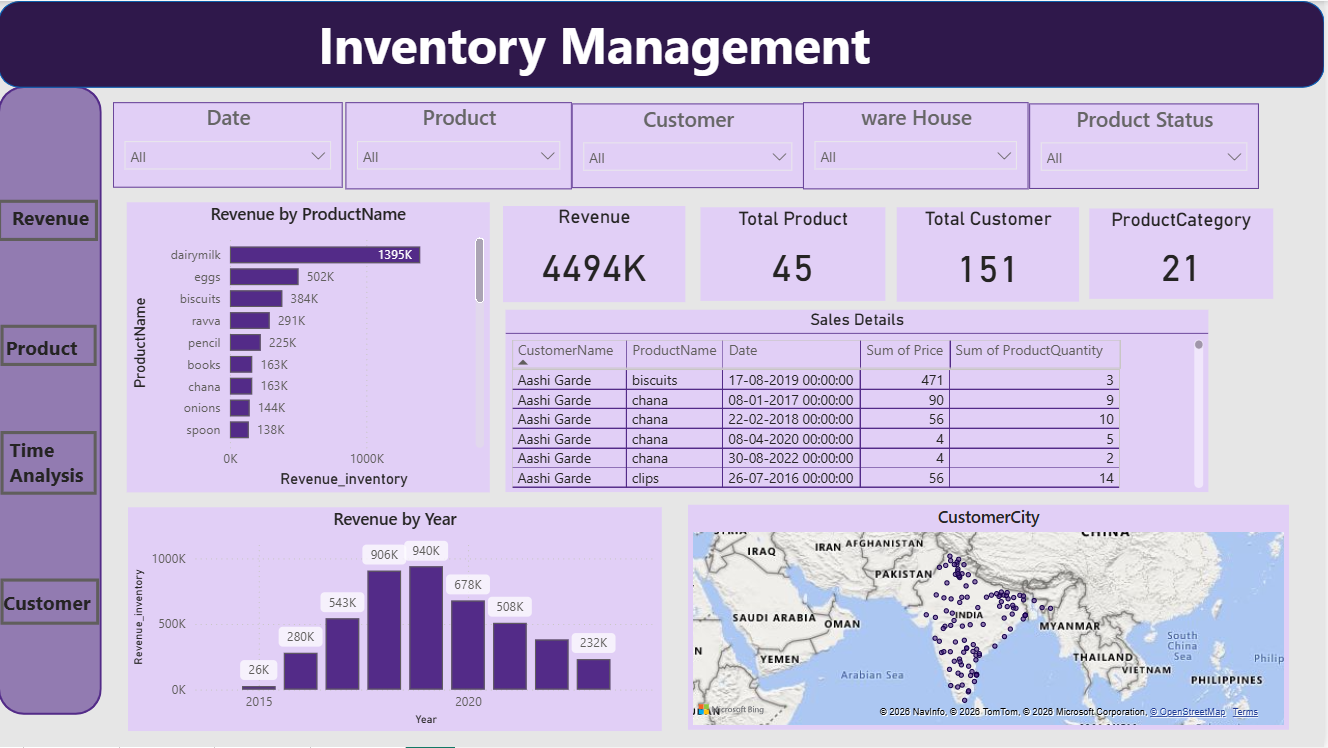

Layout of this report page (visuals, bound fields, positions):
{"tool":"powerbi","page":{"name":"Page 1","canvas":[1280,720],"ordinal":0},"visuals":[{"type":"actionButton","box":[0,191.8,96.5,39.8],"z":0,"group":"g1"},{"type":"lineClusteredColumnComboChart","title":"Revenue by Year","fields":{"Category":["dim_date.Year"],"Y":["factinventoryproduct.Revenue_inventory"]},"box":[125.5,488.6,515.2,216],"z":0},{"type":"textbox","box":[8.4,191.8,88.1,38.6],"z":1000,"group":"g1"},{"type":"barChart","title":"Revenue by ProductName","fields":{"Category":["dim_product.ProductName"],"Y":["factinventoryproduct.Revenue_inventory"]},"box":[123.8,193.8,350,280],"z":1000},{"type":"card","title":"Revenue","fields":{"Values":["factinventoryproduct.Revenue_inventory"]},"box":[487.5,197.5,176.2,92.5],"z":2000},{"type":"card","title":" ProductCategory","fields":{"Values":["Count(dim_product.ProductCategory)"]},"box":[1053.8,200,177.5,87.5],"z":3000},{"type":"card","title":"Total Product","fields":{"Values":["Count(dim_product.ProductName)"]},"box":[677.5,198.8,178.8,90],"z":4000},{"type":"card","title":"Total Customer","fields":{"Values":["Count(dim_customer.CustomerName)"]},"box":[867.5,198.8,176.2,91.2],"z":5000},{"type":"slicer","title":"Date","fields":{"Values":["dim_date.Date"]},"box":[111.2,97.5,221.2,82.5],"z":6000},{"type":"slicer","title":"Product","fields":{"Values":["dim_product.ProductName"]},"box":[335.4,97.7,218.4,83.7],"z":7000},{"type":"slicer","title":"Customer","fields":{"Values":["dim_customer.CustomerName"]},"box":[553.8,98.9,223.8,81.2],"z":8000},{"type":"slicer","title":"ware House","fields":{"Values":["dim_warehouse.warehousename"]},"box":[777.5,97.5,217.5,83.8],"z":9000},{"type":"slicer","title":"Product Status","fields":{"Values":["dim_productstatus.productstatus"]},"box":[995,98.8,221.2,82.5],"z":10000},{"type":"tableEx","title":"Sales Details","fields":{"Values":["dim_customer.CustomerName","dim_product.ProductName","dim_date.Date","Sum(factinventoryproduct.Price)","Sum(factinventoryproduct.ProductQuantity)"]},"box":[490,297.5,678.8,176.2],"z":11000},{"type":"shape","box":[0,82,100.1,606.8],"z":12000},{"type":"shape","box":[0,0,1280.3,83.7],"z":17000},{"type":"map","fields":{"Category":["dim_customer.CustomerCity"]},"box":[666,486.2,580.3,217.2],"z":19000},{"type":"textbox","box":[303.8,3.8,563.8,73.8],"z":20500},{"type":"textbox","box":[2.7,316.9,88.1,38.6],"z":20505},{"type":"actionButton","box":[2.4,312.5,92.9,39.8],"z":20506},{"type":"actionButton","box":[2.4,415,92.9,61.5],"z":20508},{"type":"actionButton","box":[2.4,557.4,95.3,44.6],"z":20509},{"type":"textbox","box":[6,415,90.5,61.5],"z":20511},{"type":"textbox","box":[0,563.2,103.8,38.6],"z":20512},{"type":"group","id":"g1","title":"Group 1","box":[0,191.8,96.5,39.8],"z":20513}]}

Visuals, with their boxes in screenshot pixels (x1, y1, x2, y2), scaled from the page's 1280x720 canvas onto the 1328x748 screenshot:
actionButton: bbox=(0, 199, 100, 241)
"Revenue by Year" lineClusteredColumnComboChart: bbox=(130, 508, 665, 732)
textbox: bbox=(9, 199, 100, 239)
"Revenue by ProductName" barChart: bbox=(128, 201, 492, 492)
"Revenue" card: bbox=(506, 205, 689, 301)
" ProductCategory" card: bbox=(1093, 208, 1277, 299)
"Total Product" card: bbox=(703, 207, 888, 300)
"Total Customer" card: bbox=(900, 207, 1083, 301)
"Date" slicer: bbox=(115, 101, 345, 187)
"Product" slicer: bbox=(348, 101, 575, 188)
"Customer" slicer: bbox=(575, 103, 807, 187)
"ware House" slicer: bbox=(807, 101, 1032, 188)
"Product Status" slicer: bbox=(1032, 103, 1262, 188)
"Sales Details" tableEx: bbox=(508, 309, 1213, 492)
shape: bbox=(0, 85, 104, 716)
shape: bbox=(0, 0, 1327, 87)
map - dim_customer.CustomerCity: bbox=(691, 505, 1293, 731)
textbox: bbox=(315, 4, 900, 81)
textbox: bbox=(3, 329, 94, 369)
actionButton: bbox=(2, 325, 99, 366)
actionButton: bbox=(2, 431, 99, 495)
actionButton: bbox=(2, 579, 101, 625)
textbox: bbox=(6, 431, 100, 495)
textbox: bbox=(0, 585, 108, 625)
"Group 1" group: bbox=(0, 199, 100, 241)
